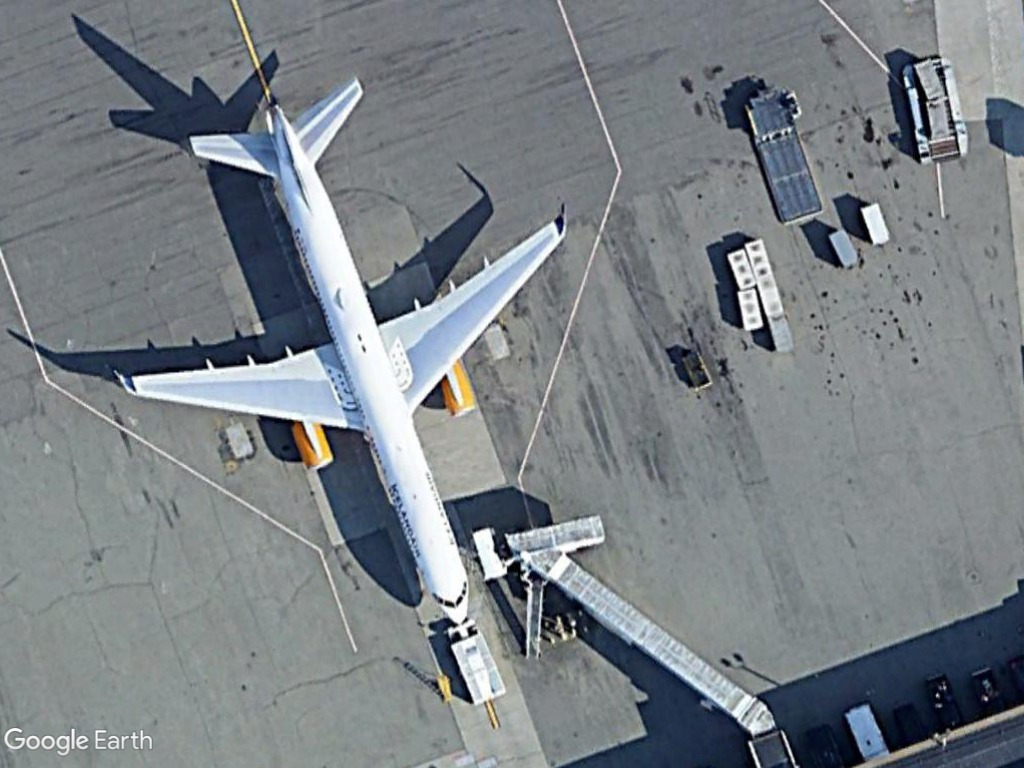airliner: (105, 69, 572, 645)
